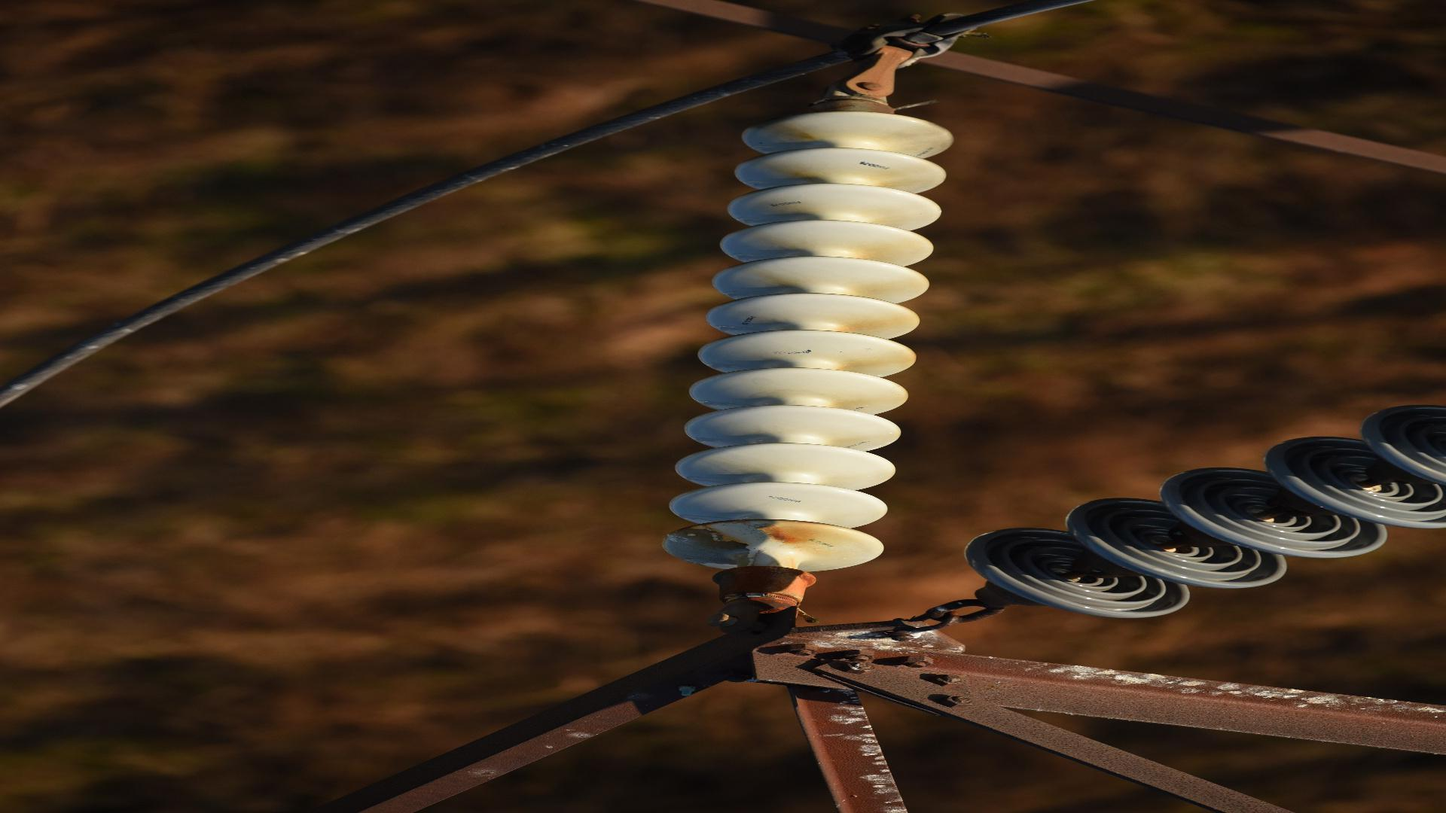insulator: (653, 104, 963, 580), (962, 388, 1446, 625)
insulator_flashover: (658, 524, 752, 573)
